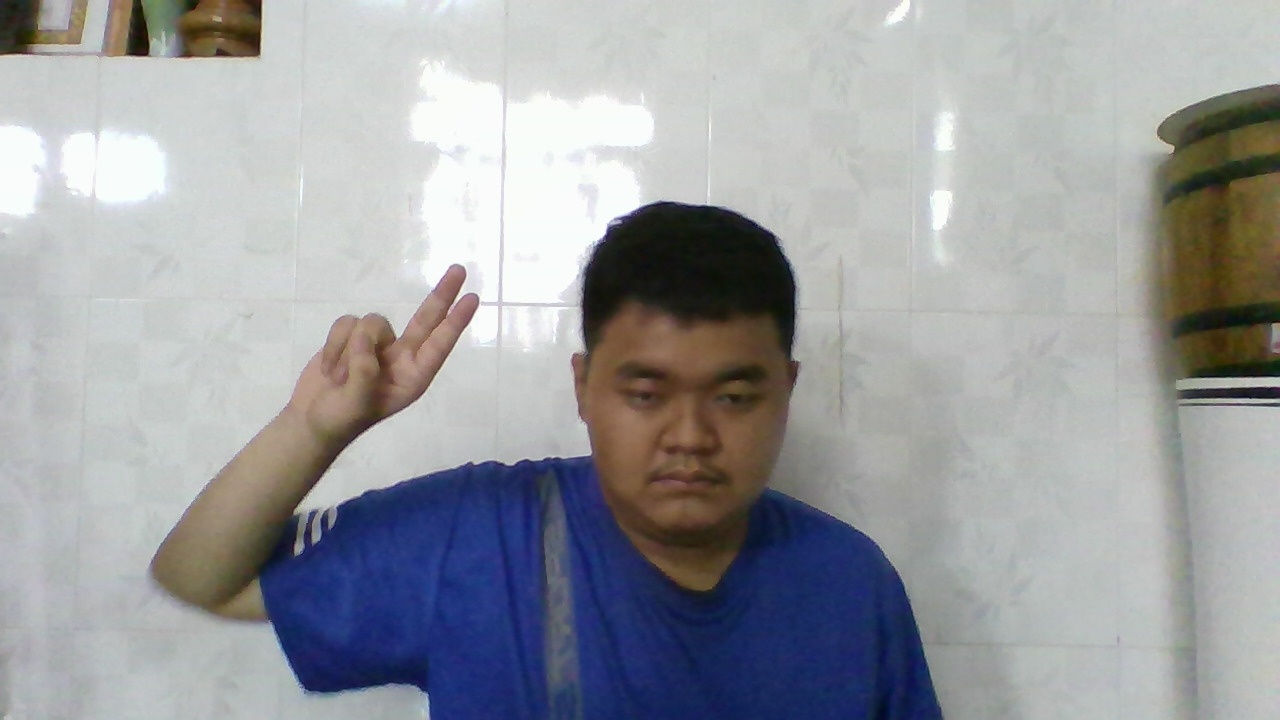U: (289, 257, 485, 439)
